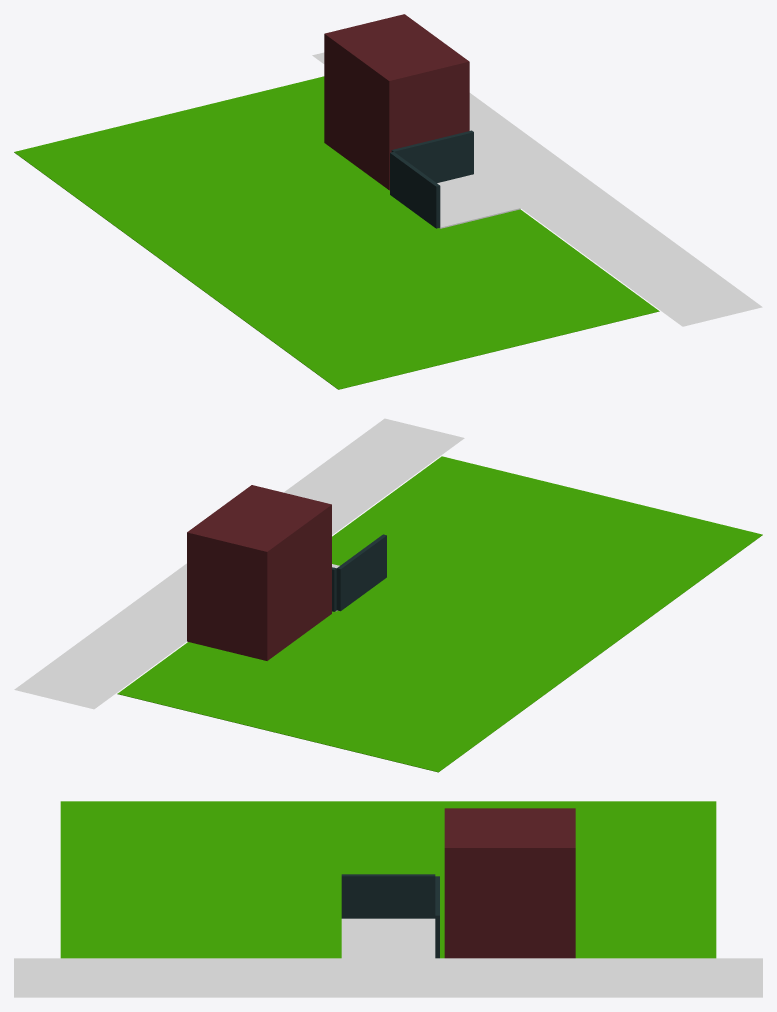
The model's file is Workstation.fbx.
The picture shows the model from 3 angles, top to bottom: view 1: azimuth 30°, elevation 25°; view 2: azimuth 150°, elevation 25°; view 3: azimuth 270°, elevation 25°; orthographic projection.
Visible parts, largest first — view 1: Ground, Highway, Building, Floor, WallR, WallL; view 2: Ground, Building, Highway, WallL; view 3: Ground, Highway, Building, WallL, Floor, WallR.
Part boxes in pixels (x1,y1,x2,y2): Ground: (14, 76, 659, 389); Highway: (312, 52, 762, 326); Building: (324, 14, 469, 190); Floor: (437, 174, 520, 228); WallR: (391, 130, 473, 182); WallL: (390, 152, 440, 228); Ground: (117, 456, 762, 772); Building: (187, 485, 331, 660); Highway: (14, 418, 464, 709); WallL: (336, 534, 386, 611); Ground: (60, 801, 716, 958); Highway: (14, 958, 762, 997); Building: (444, 808, 575, 958); WallL: (341, 874, 435, 918); Floor: (341, 918, 435, 958); WallR: (435, 876, 439, 958).
Bounding box in the file's own units: 5000 × 1320 × 8000.
